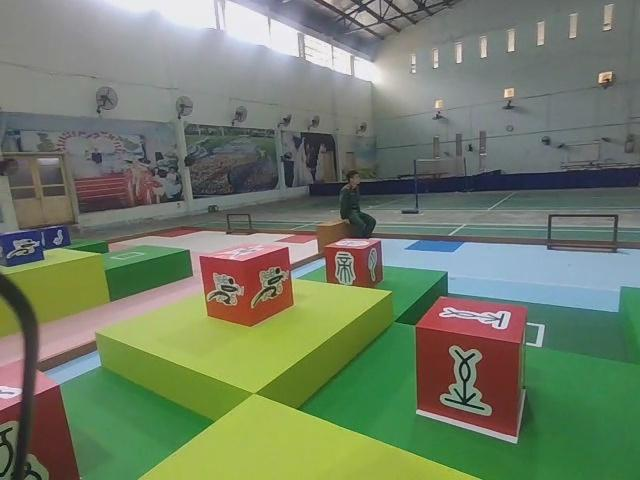R1: (196, 239, 294, 329)
R2 Fake: (320, 235, 386, 291)
R2 Real: (410, 293, 532, 442)
